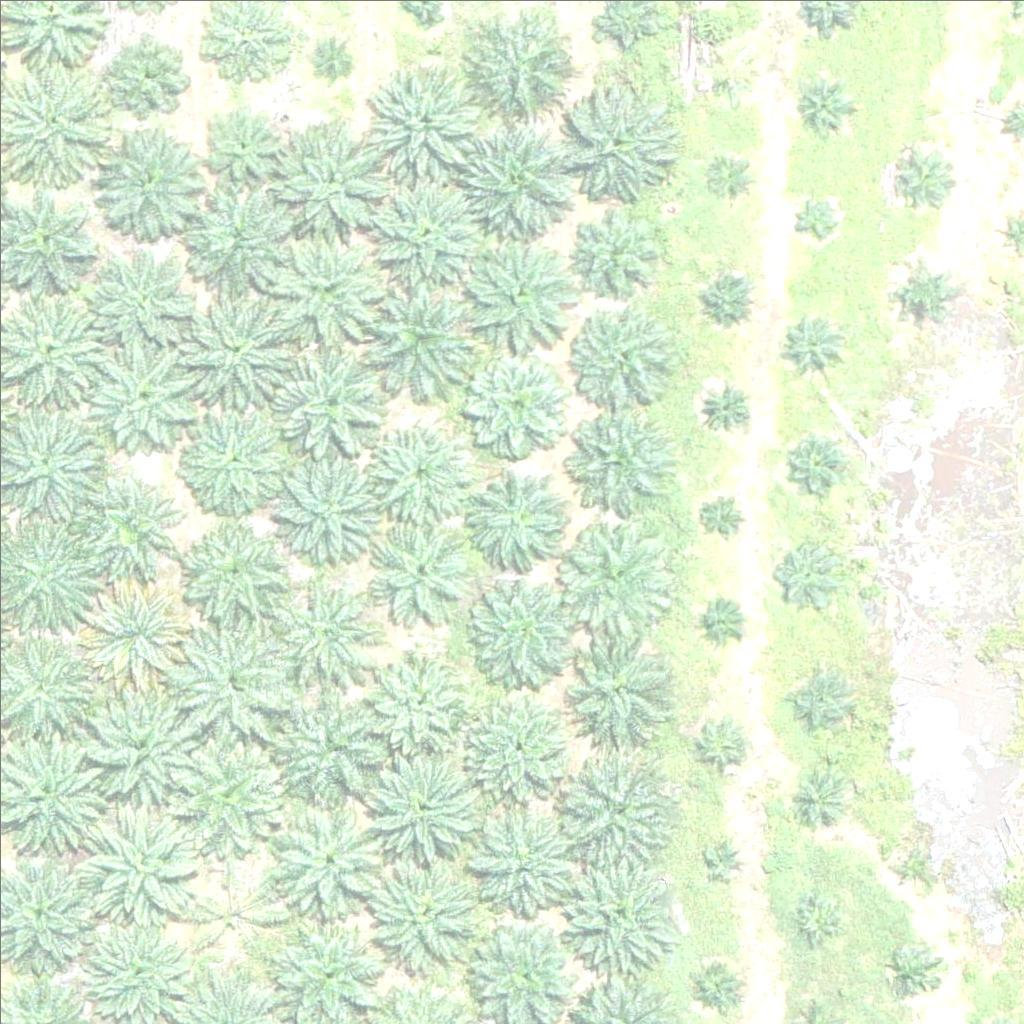Kelapa_Sawit: (352, 272, 477, 398), (554, 78, 679, 204), (369, 176, 482, 290), (459, 231, 572, 345), (461, 346, 574, 460), (557, 514, 670, 628), (96, 120, 209, 233), (178, 292, 291, 405), (192, 191, 305, 304), (371, 68, 484, 181), (458, 126, 571, 239), (467, 11, 580, 124), (560, 856, 673, 969), (559, 754, 672, 867), (559, 639, 672, 752), (276, 691, 389, 804), (268, 799, 381, 912), (172, 738, 285, 851), (78, 573, 191, 686), (81, 340, 194, 453), (176, 620, 289, 733), (180, 515, 293, 628), (467, 570, 580, 683), (279, 130, 391, 244), (78, 907, 190, 1021), (565, 395, 677, 509), (268, 233, 380, 346), (361, 860, 473, 973), (365, 753, 477, 866), (86, 689, 198, 802), (85, 811, 197, 924), (269, 575, 381, 688), (273, 343, 385, 456), (182, 863, 282, 964), (462, 699, 562, 800), (466, 813, 566, 914), (365, 645, 465, 746), (183, 407, 283, 508), (276, 462, 376, 563), (368, 513, 468, 614), (571, 310, 671, 411), (367, 421, 467, 521), (463, 467, 563, 567), (573, 206, 661, 294), (86, 482, 173, 571), (99, 251, 186, 339), (108, 37, 183, 113), (210, 104, 285, 180), (768, 540, 843, 615), (882, 148, 945, 211), (893, 264, 956, 327), (784, 425, 847, 488), (795, 76, 858, 139), (694, 375, 757, 438), (785, 765, 847, 828), (786, 668, 848, 731), (784, 314, 846, 377), (698, 263, 760, 326), (695, 720, 745, 771), (704, 158, 754, 209), (705, 61, 755, 112), (789, 196, 839, 247), (699, 596, 749, 647), (893, 949, 943, 999), (791, 893, 841, 943), (695, 489, 745, 539), (692, 958, 742, 1008), (308, 41, 346, 79), (888, 847, 926, 885), (705, 838, 743, 876)
